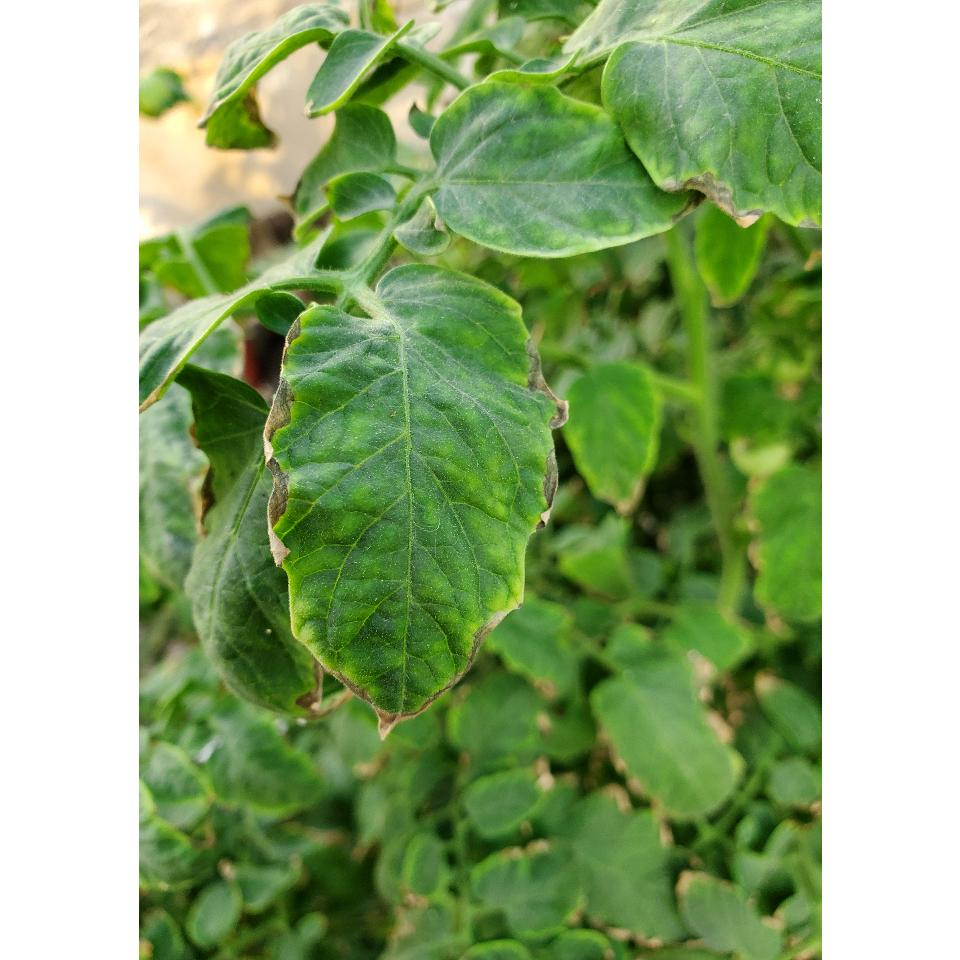tomato_bacterial_blight: (258, 285, 569, 737)
